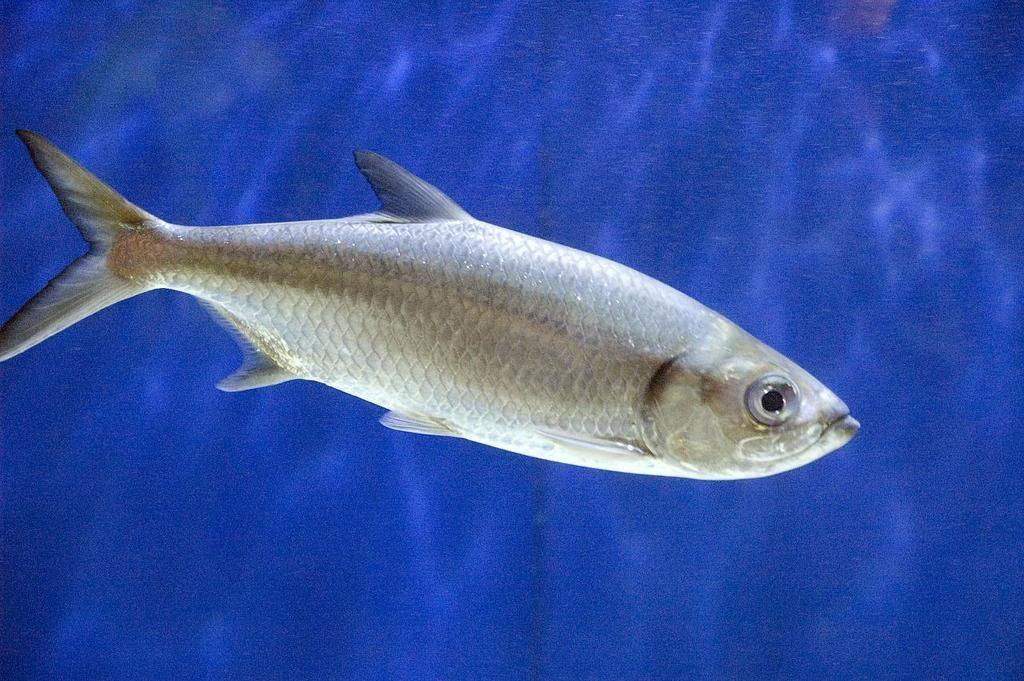Indo-Pacific Tarpon: (0, 125, 864, 482)
